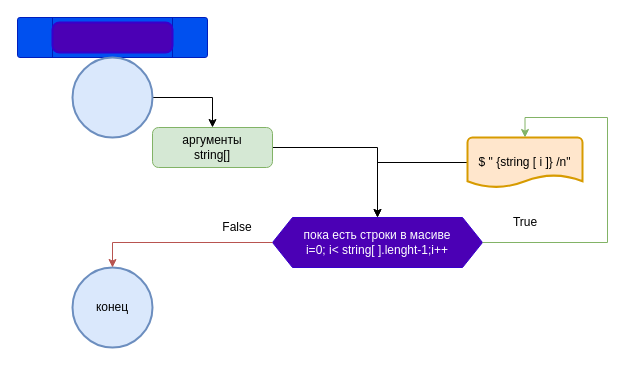
Image size: 633x366. Some labels were removed from this diagram. The centre of each missing label's shape, as x and y in pixels:
начало: point 112,97
принт масив (str..[ ]): point 112,37
